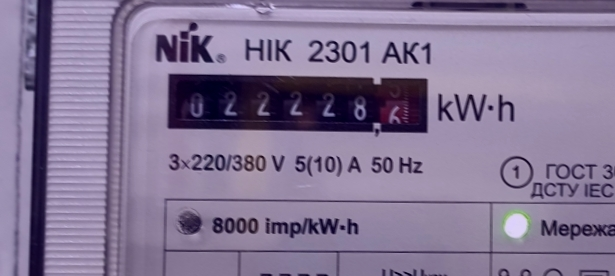0: (187, 90, 203, 118)
2: (220, 88, 239, 118), (319, 90, 337, 119), (254, 89, 270, 118), (286, 89, 303, 116)
5: (386, 79, 402, 99)
6: (385, 102, 402, 124)
8: (351, 93, 366, 121)
screen: (158, 62, 437, 142)
